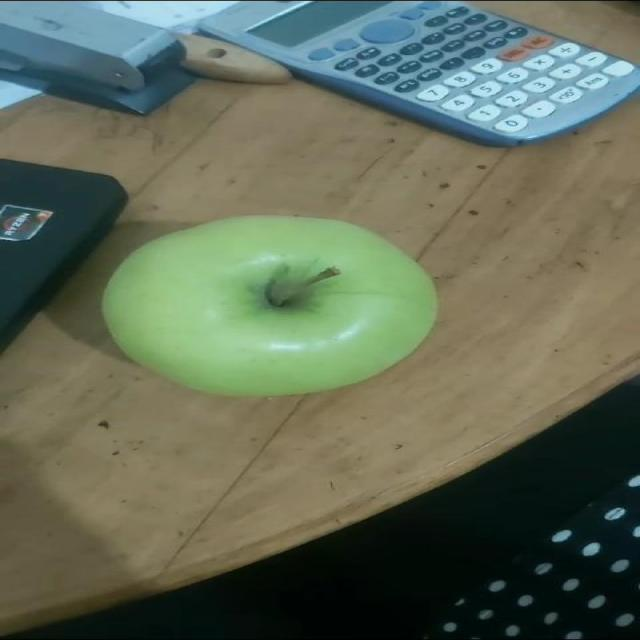Rotten Apple: (97, 215, 439, 395)
